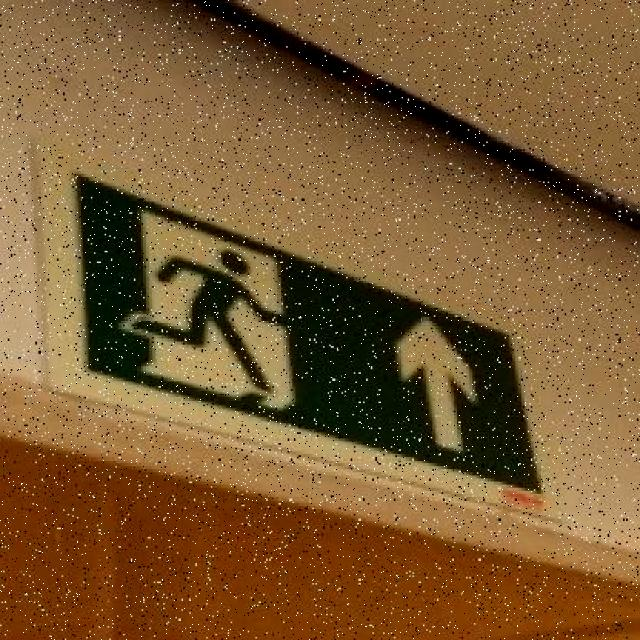emergency_exit: (72, 174, 545, 496)
